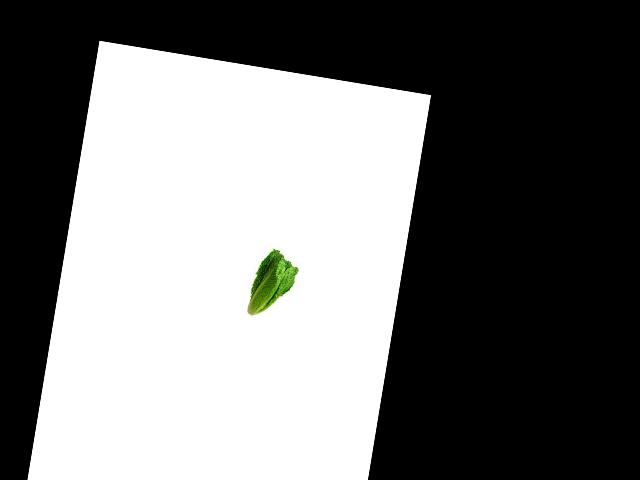lettuce: (244, 246, 301, 327)
